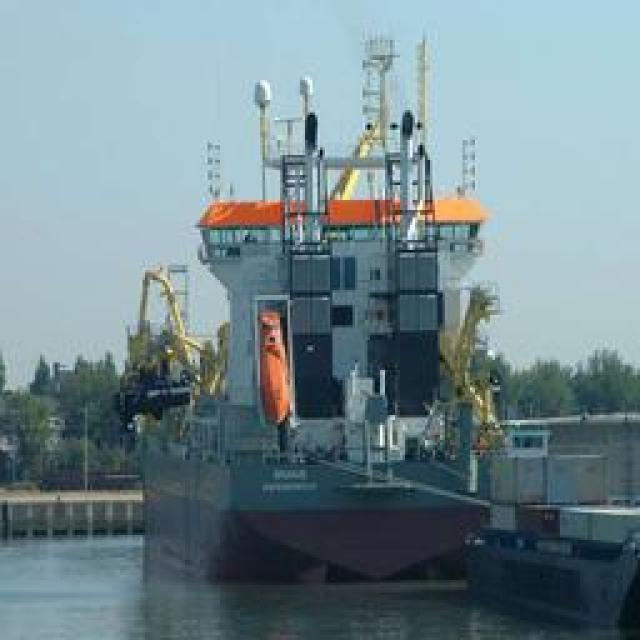ship2: (144, 38, 495, 592)
